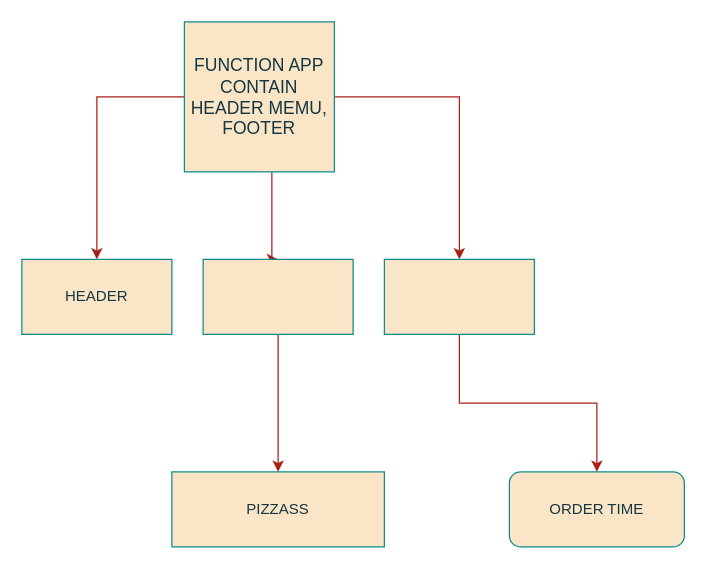
This 706x569 diagram has some shape labels left out. Here are the shapes that lost their labels. From the top down, the centre of each, then its label:
the point at 277,296: MENU
the point at 458,296: FOOTER
